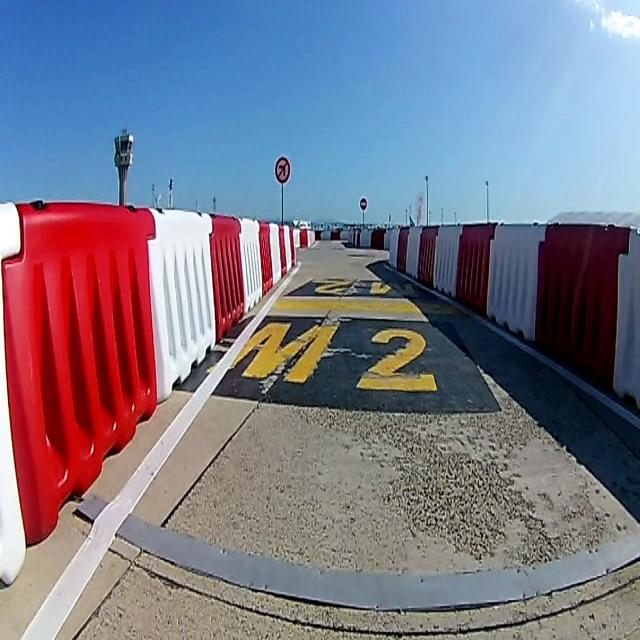girisyok: (360, 197, 367, 211)
soladonulmez: (274, 156, 290, 184)
